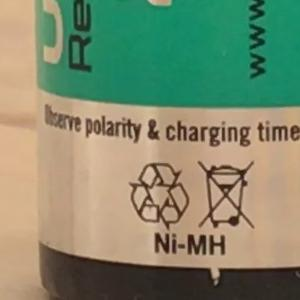NI-MH: (145, 225, 235, 264)
